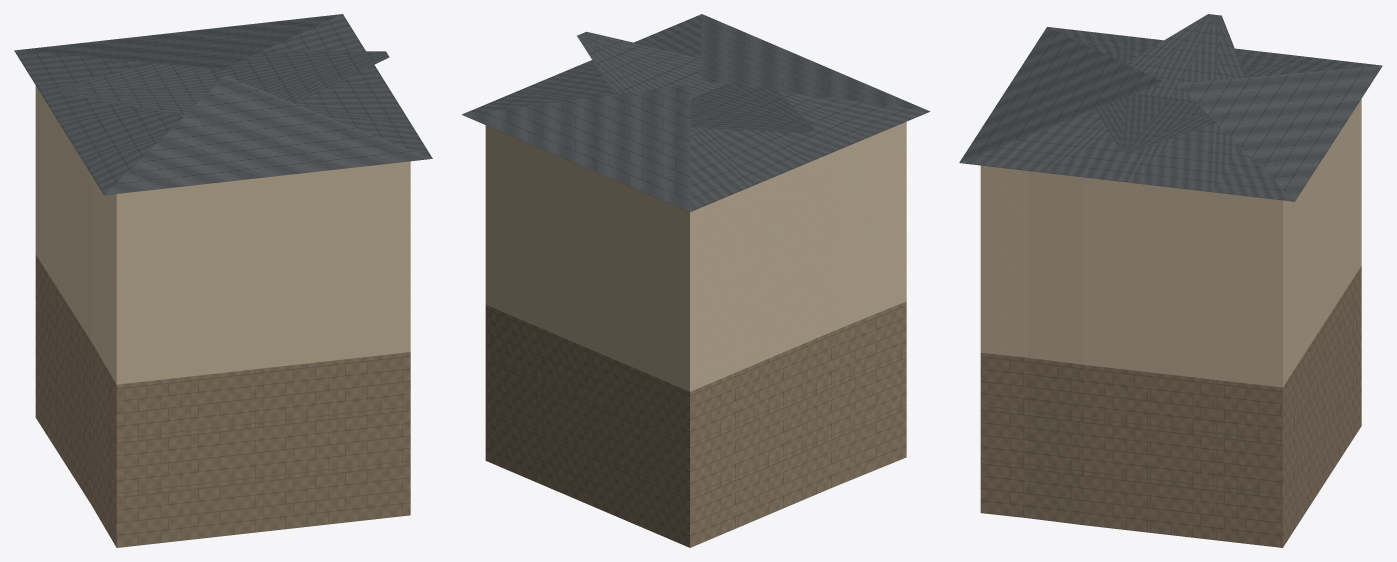
File: bld_c10_9_510.gltf
3 renders of one model, left to right at view 1: azimuth 30°, elevation 25°; view 2: azimuth 150°, elevation 25°; view 3: azimuth 270°, elevation 25°, orthographic. The views are drawn at different scales.
Parts seen in each view (by area): view 1: bld_c10_9_510; view 2: bld_c10_9_510; view 3: bld_c10_9_510.
Boxes of the visible parts, x1=… form: bld_c10_9_510: x1=14, y1=14, x2=432, y2=547; bld_c10_9_510: x1=462, y1=14, x2=929, y2=547; bld_c10_9_510: x1=959, y1=14, x2=1382, y2=547.
Size of the model in its own units: 11.93 by 12.3 by 12.21.
3 materials, 3 textured.
